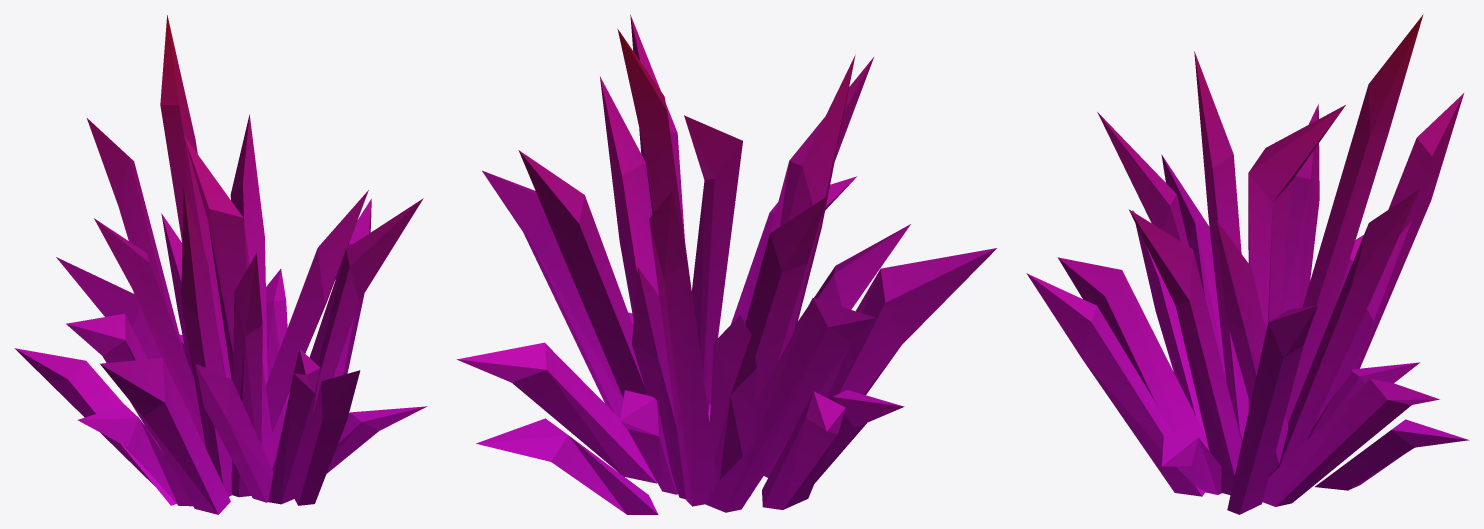
Rendered from SM_Plant_Grass_05.gltf.
The picture shows the model from 3 angles, left to right: view 1: azimuth 30°, elevation 25°; view 2: azimuth 150°, elevation 25°; view 3: azimuth 270°, elevation 25°; orthographic projection. The views are drawn at different scales.
Parts seen in each view (by area): view 1: SM_Plant_Grass_05; view 2: SM_Plant_Grass_05; view 3: SM_Plant_Grass_05.
Part boxes in pixels (left/top/right/bottom): SM_Plant_Grass_05: left=14, top=15, right=427, bottom=514; SM_Plant_Grass_05: left=456, top=14, right=996, bottom=514; SM_Plant_Grass_05: left=1026, top=14, right=1469, bottom=514.
Bounding box in the file's own units: 0.6275 × 0.7353 × 0.636.
